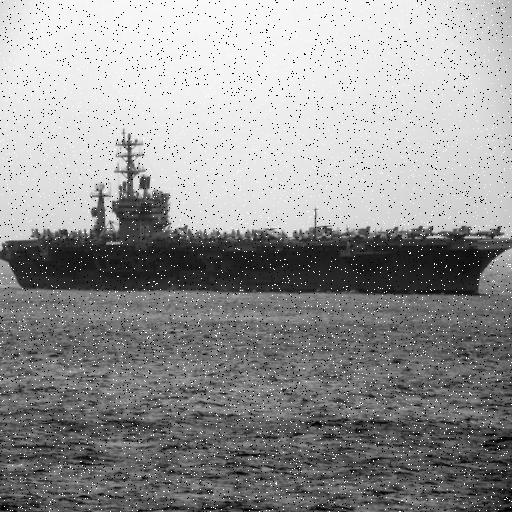Portanaves: (1, 118, 512, 297)
